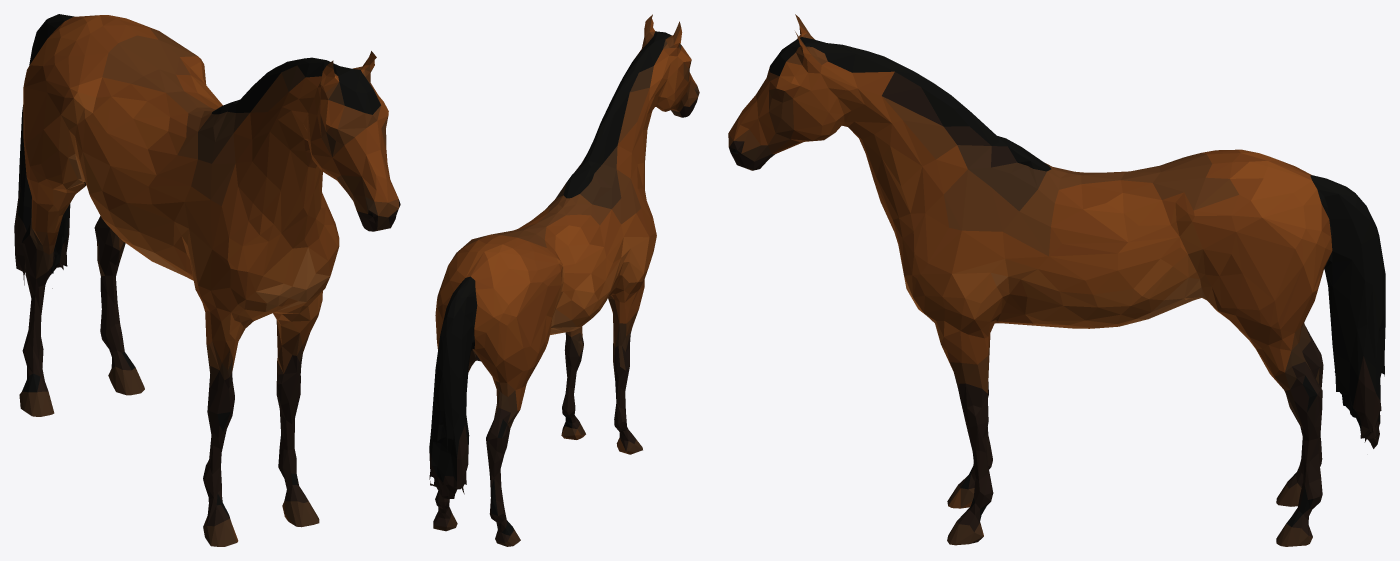
The model's file is horse.glb.
3 views of the same model, side by side, from view 1: azimuth 30°, elevation 25°; view 2: azimuth 150°, elevation 25°; view 3: azimuth 270°, elevation 25° (orthographic). The views are drawn at different scales.
Visible parts, largest first — view 1: low-poly-horse; view 2: low-poly-horse; view 3: low-poly-horse.
Boxes of the visible parts, left/top/right/bottom form: low-poly-horse: left=14, top=14, right=400, bottom=546; low-poly-horse: left=429, top=14, right=699, bottom=546; low-poly-horse: left=728, top=14, right=1385, bottom=546.
Size of the model in its own units: 0.5793 by 2.03 by 2.42.
1 material, 1 textured.
